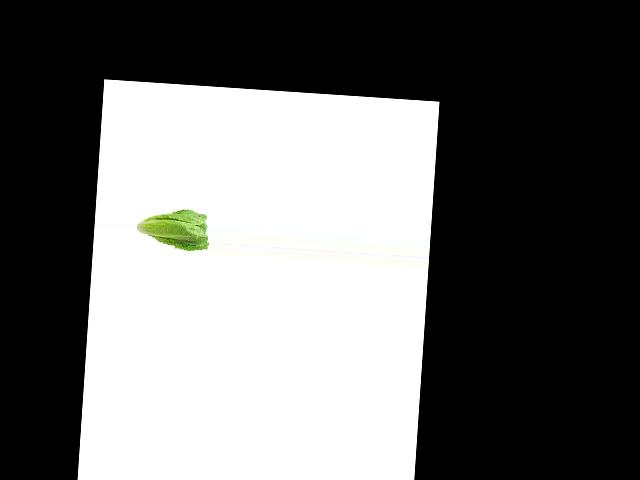lettuce: (136, 201, 211, 254)
